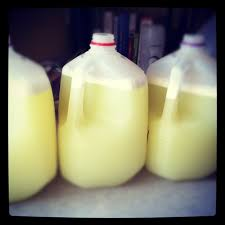milk: (60, 33, 147, 186), (150, 32, 217, 183), (8, 32, 59, 198)
